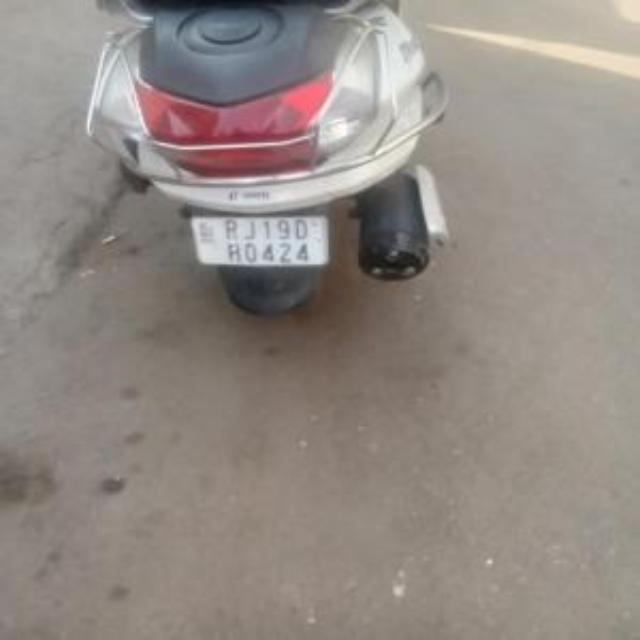License Plate: (193, 218, 324, 262)
